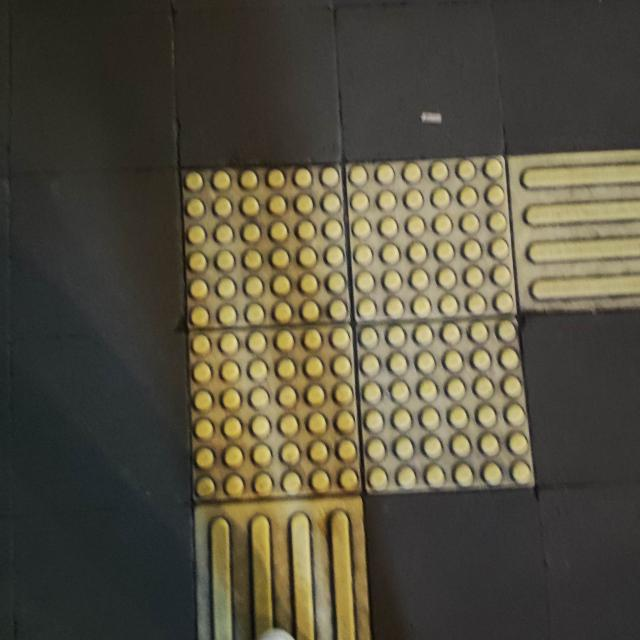kanan: (103, 100, 640, 603)
